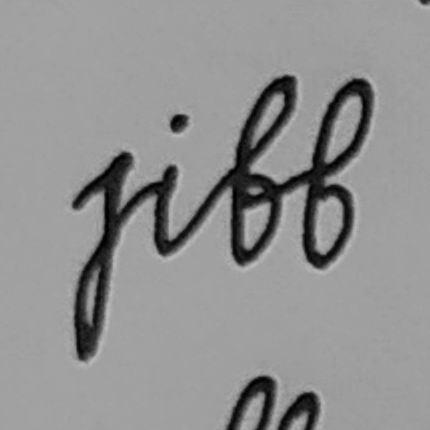b: (295, 71, 382, 272), (220, 71, 302, 269)
i: (144, 107, 196, 262)
j: (63, 146, 138, 367)
